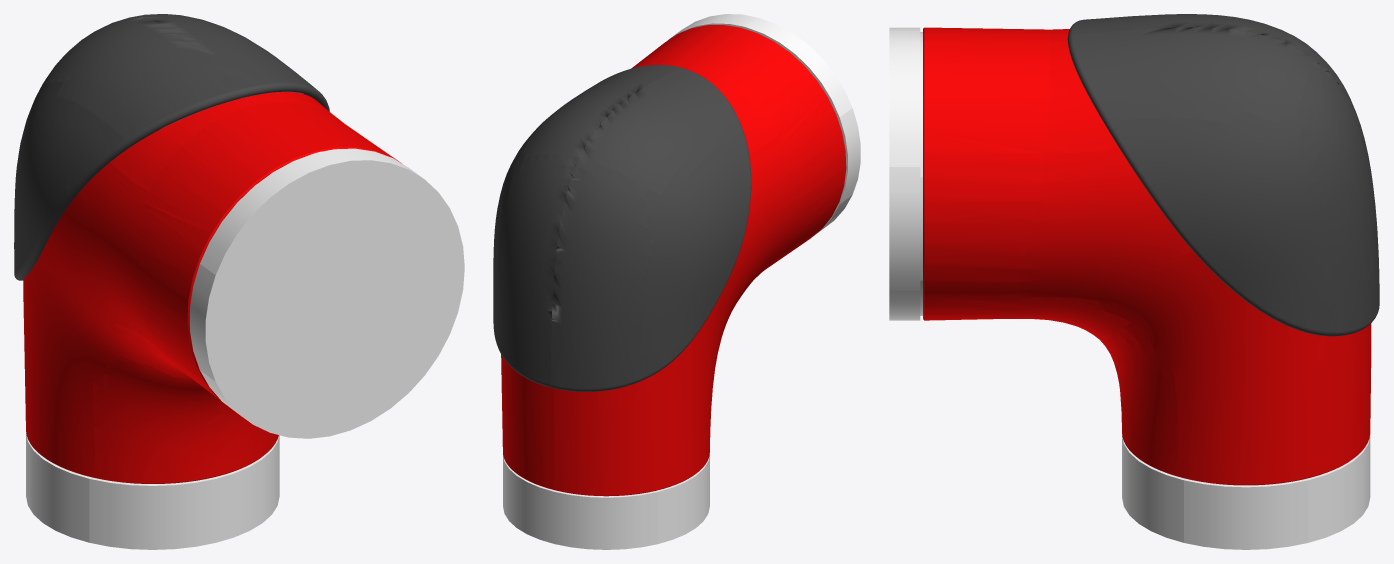
3 renders of one model, left to right at view 1: azimuth 30°, elevation 25°; view 2: azimuth 150°, elevation 25°; view 3: azimuth 270°, elevation 25°, orthographic. The views are drawn at different scales.
Visible parts, largest first — view 1: _3DGeom_30_geo_1.019, _3DGeom_31_geo_2.013, _3DGeom_29_geo_0.019; view 2: _3DGeom_29_geo_0.019, _3DGeom_31_geo_2.013, _3DGeom_30_geo_1.019; view 3: _3DGeom_31_geo_2.013, _3DGeom_29_geo_0.019, _3DGeom_30_geo_1.019.
Boxes of the visible parts, x1,y1,x2,y2 form: _3DGeom_30_geo_1.019: (26, 148, 464, 549); _3DGeom_31_geo_2.013: (23, 92, 401, 483); _3DGeom_29_geo_0.019: (14, 14, 329, 280); _3DGeom_29_geo_0.019: (493, 65, 751, 391); _3DGeom_31_geo_2.013: (501, 25, 846, 496); _3DGeom_30_geo_1.019: (503, 14, 860, 549); _3DGeom_31_geo_2.013: (923, 27, 1371, 485); _3DGeom_29_geo_0.019: (1067, 14, 1379, 336); _3DGeom_30_geo_1.019: (889, 27, 1370, 549).
Size of the model in its own units: 0.1084 by 0.1838 by 0.1739.
